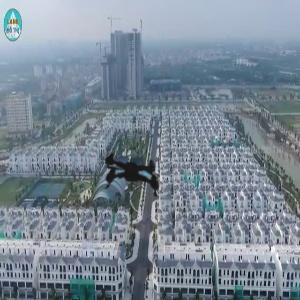drone: (43, 86, 218, 261)
